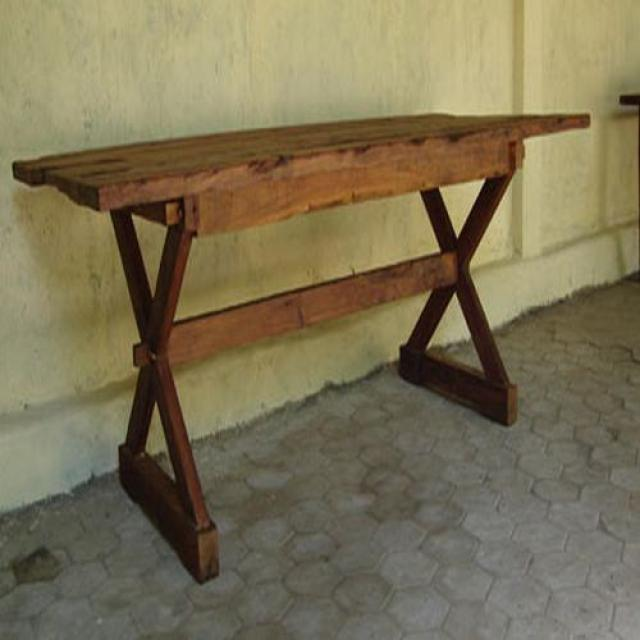table: (13, 114, 593, 584)
